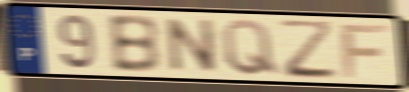9: (55, 13, 97, 71)
B: (105, 13, 164, 75)
F: (338, 23, 391, 80)
N: (165, 16, 219, 74)
Q: (219, 17, 282, 78)
Z: (276, 19, 341, 81)
